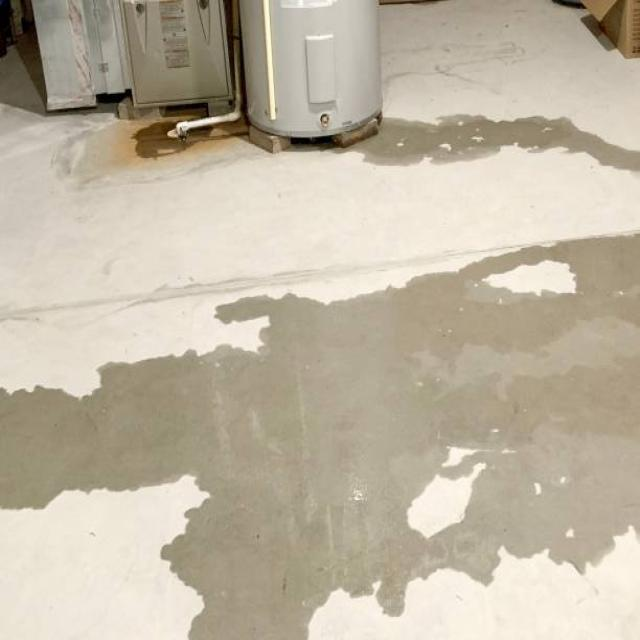water accumulation: (0, 231, 640, 640), (344, 112, 640, 172), (132, 116, 210, 158)
